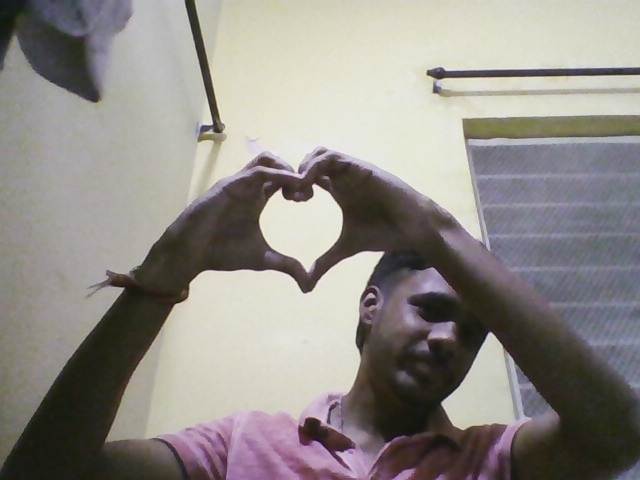iloveyou: (146, 127, 465, 300)
